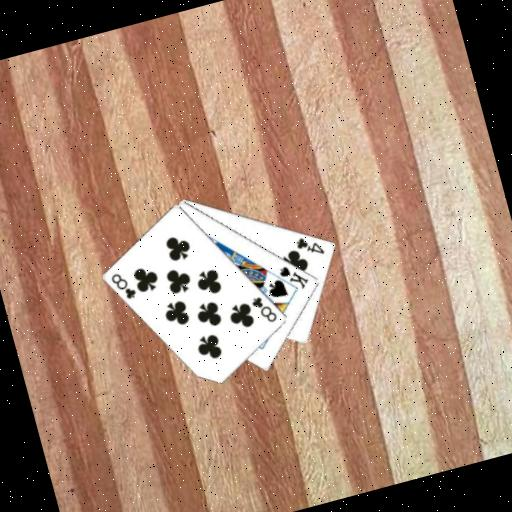4C: (291, 229, 326, 261)
8C: (247, 290, 280, 328), (107, 266, 140, 304)
KS: (274, 258, 311, 295)
